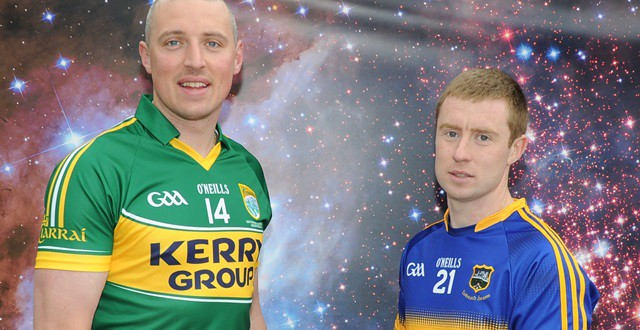player: (44, 2, 273, 320), (393, 50, 598, 323)
